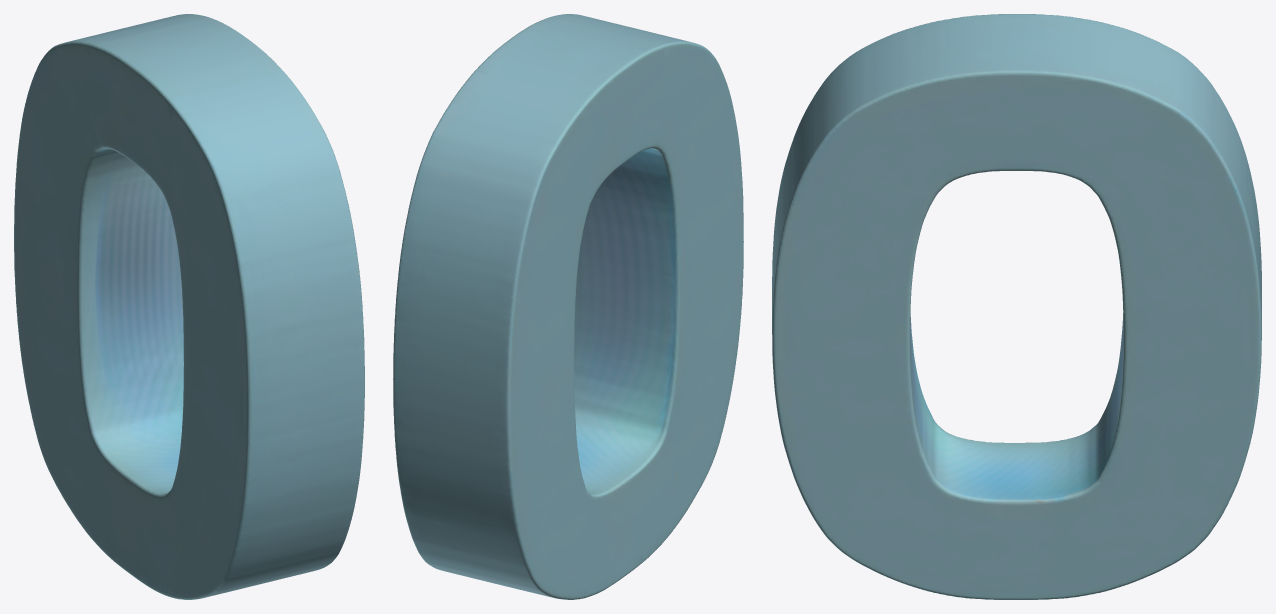
Rendered from Number0.fbx.
3 renders of one model, left to right at view 1: azimuth 30°, elevation 25°; view 2: azimuth 150°, elevation 25°; view 3: azimuth 270°, elevation 25°, orthographic. The views are drawn at different scales.
Parts seen in each view (by area): view 1: tripo_node_7c7e2d6b-4302-49e8-ac2b-1323f3041799; view 2: tripo_node_7c7e2d6b-4302-49e8-ac2b-1323f3041799; view 3: tripo_node_7c7e2d6b-4302-49e8-ac2b-1323f3041799.
Boxes of the visible parts, bbox=[...] form: tripo_node_7c7e2d6b-4302-49e8-ac2b-1323f3041799: bbox=[14, 14, 364, 599]; tripo_node_7c7e2d6b-4302-49e8-ac2b-1323f3041799: bbox=[393, 14, 743, 599]; tripo_node_7c7e2d6b-4302-49e8-ac2b-1323f3041799: bbox=[772, 14, 1261, 599].
Bounding box in the file's own units: 22.87 × 95.04 × 79.74.
1 material, 1 textured.
